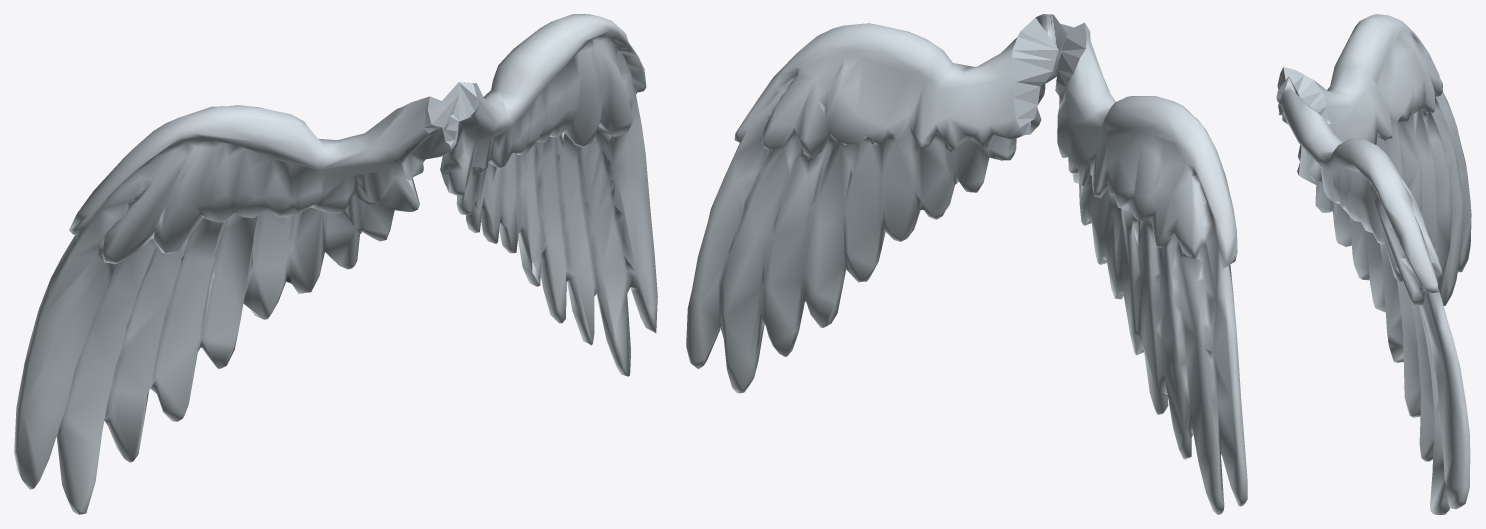
The model's file is eq_pony_wing_lr.fbx.
3 views of the same model, side by side, from view 1: azimuth 30°, elevation 25°; view 2: azimuth 150°, elevation 25°; view 3: azimuth 270°, elevation 25° (orthographic). The views are drawn at different scales.
Visible parts, largest first — view 1: eq_pony_wing_r, eq_pony_wing_l; view 2: eq_pony_wing_l, eq_pony_wing_r; view 3: eq_pony_wing_l, eq_pony_wing_r.
Boxes of the visible parts, x1,y1,x2,y2 form: eq_pony_wing_r: [14, 95, 458, 514]; eq_pony_wing_l: [440, 14, 657, 376]; eq_pony_wing_l: [686, 14, 1067, 393]; eq_pony_wing_r: [1055, 22, 1247, 514]; eq_pony_wing_l: [1276, 76, 1470, 514]; eq_pony_wing_r: [1277, 14, 1471, 305].
Bounding box in the file's own units: 113 × 37.81 × 72.85.
